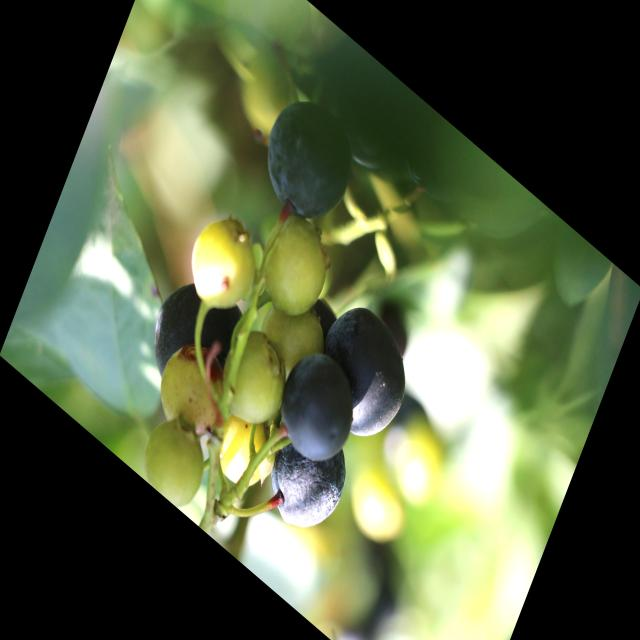blueberry: (300, 279, 426, 466), (134, 250, 257, 431), (248, 74, 366, 248), (262, 326, 370, 488), (254, 401, 359, 557), (296, 278, 352, 359)
blueberry-unripe: (246, 200, 334, 331), (178, 199, 264, 329), (210, 314, 294, 440), (146, 331, 228, 450), (134, 406, 216, 519), (209, 402, 279, 504)
